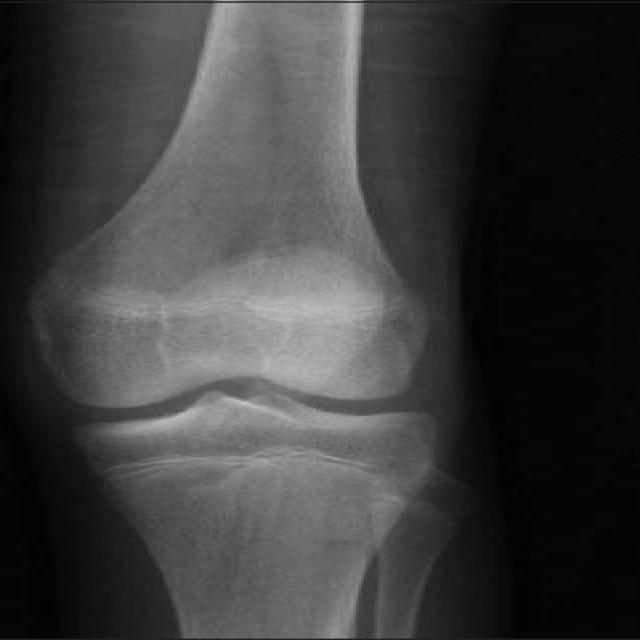Avulsion-fracture-: (24, 346, 435, 496)
